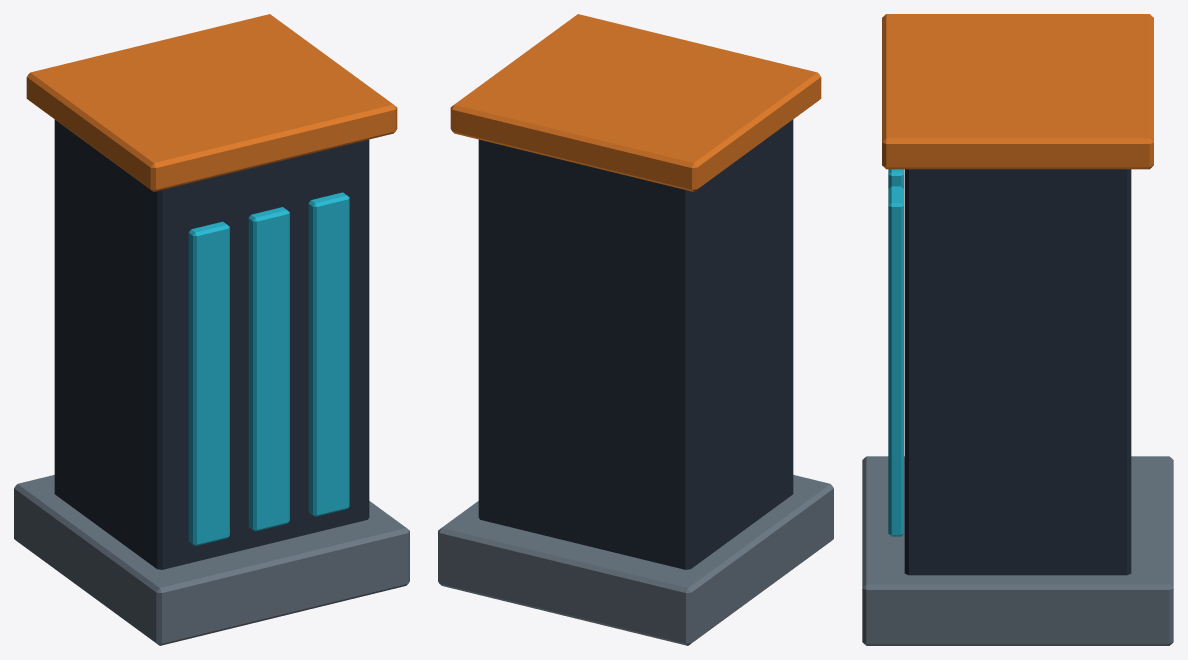
The model's file is power-relay.glb.
3 views of the same model, side by side, from view 1: azimuth 30°, elevation 25°; view 2: azimuth 150°, elevation 25°; view 3: azimuth 270°, elevation 25° (orthographic). The views are drawn at different scales.
Visible parts, largest first — view 1: power-relay_Body; view 2: power-relay_Body; view 3: power-relay_Body.
Boxes of the visible parts, x1=… form: power-relay_Body: x1=14, y1=14, x2=409, y2=645; power-relay_Body: x1=438, y1=14, x2=833, y2=645; power-relay_Body: x1=862, y1=14, x2=1173, y2=645.
Size of the model in its own units: 1.1 by 1.97 by 1.1.
